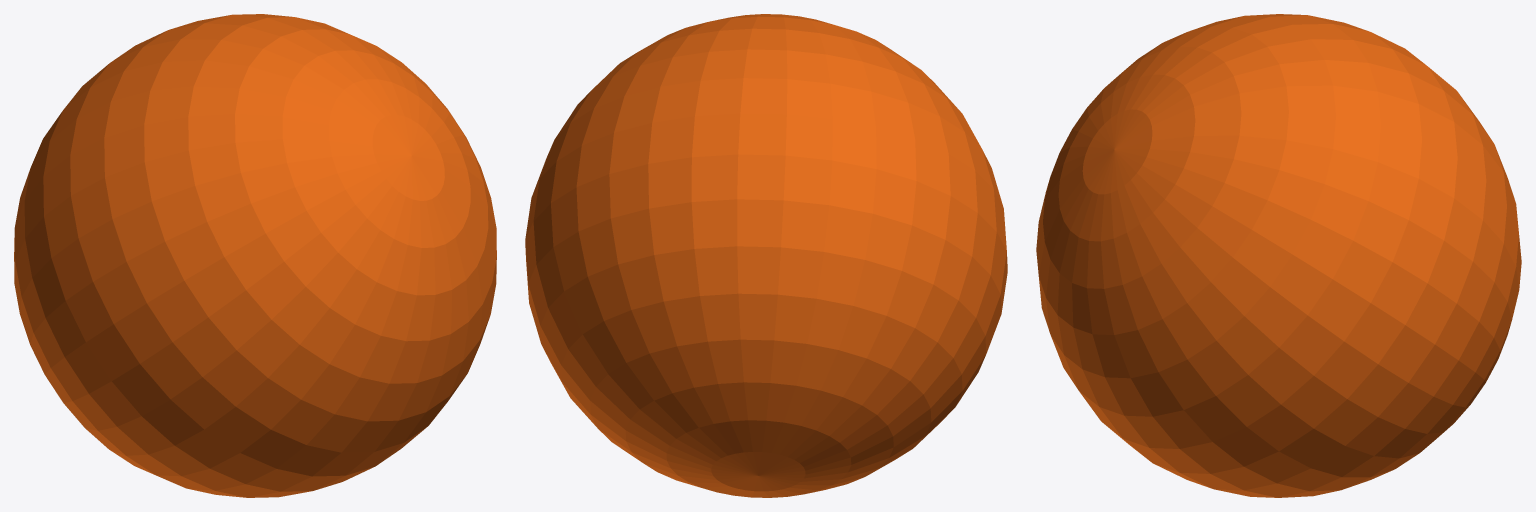
The picture shows the model from 3 angles, left to right: view 1: azimuth 30°, elevation 25°; view 2: azimuth 150°, elevation 25°; view 3: azimuth 270°, elevation 25°; orthographic projection.
Visible parts, largest first — view 1: Sphere; view 2: Sphere; view 3: Sphere.
Boxes of the visible parts, <box> form: Sphere: <box>14,14,496,497</box>; Sphere: <box>525,14,1007,497</box>; Sphere: <box>1036,14,1521,497</box>.
Bounding box in the file's own units: 0.8982 × 0.8942 × 0.8985.
